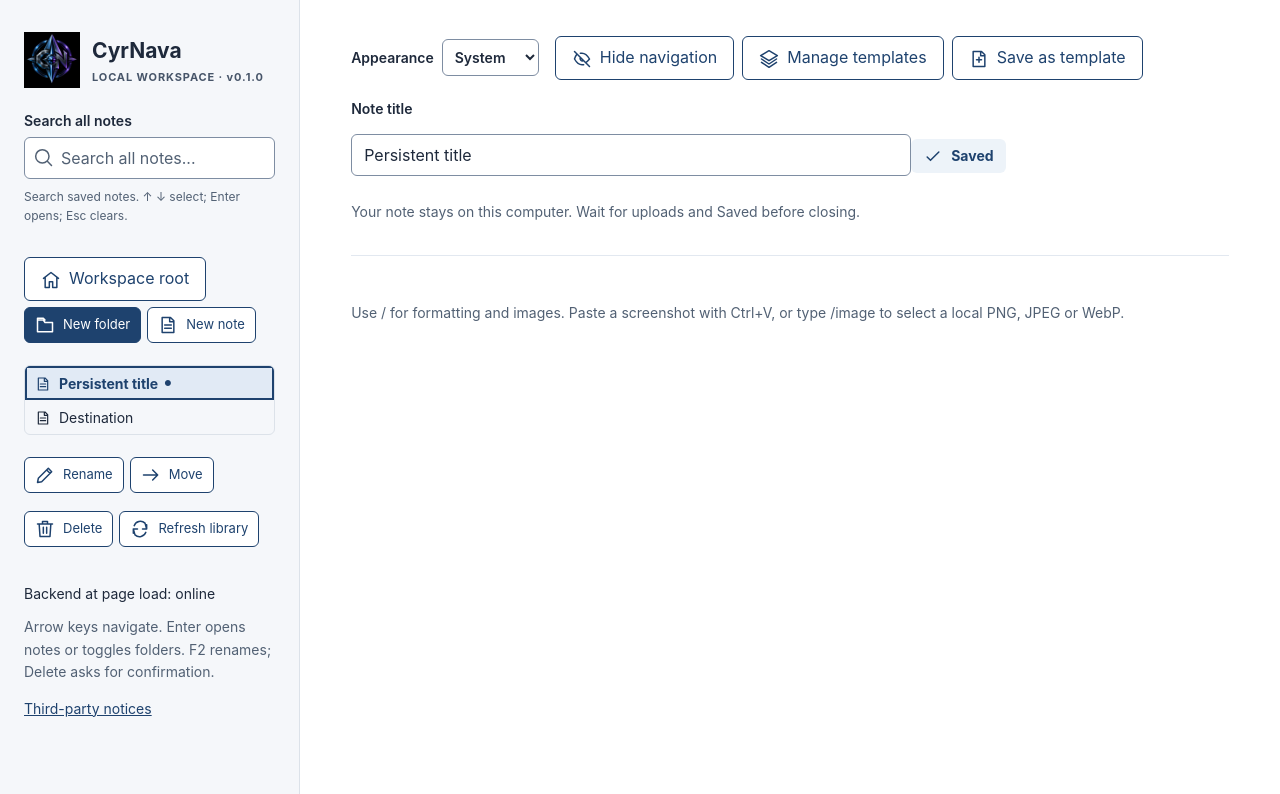
Test: F-09 search navigation › does not install a fetched note if it disappeared before the fresh tree response
In the dropdown labelled "Search all notes": [150, 158] box [24,137,275,179], type "matching"
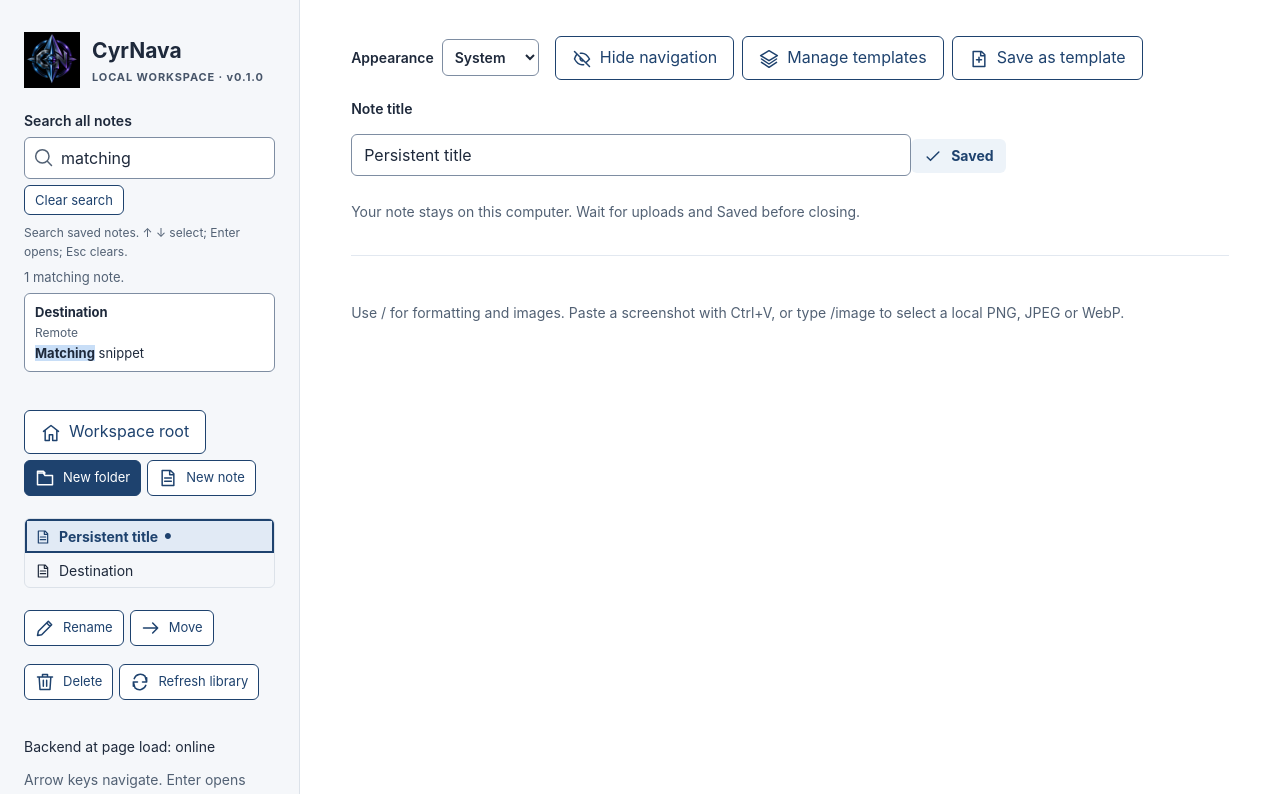
Click the option "Destination Remote Matching snippet": [150, 333] box [24,293,275,372]
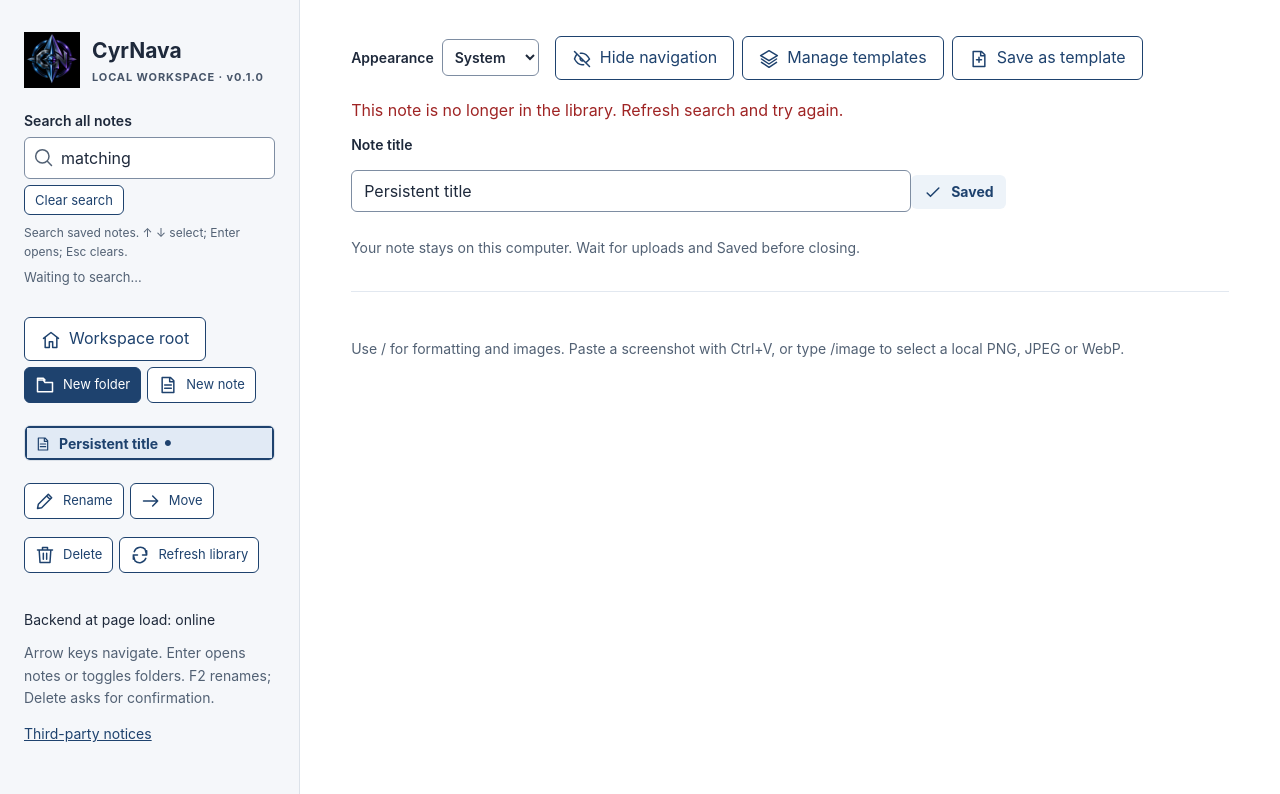
expect the field labelled "Note title" holds "Persistent title": met, box [351,170,911,212]
expect the text "This note is no longer in the library" is shown: met, box [351,100,843,120]
